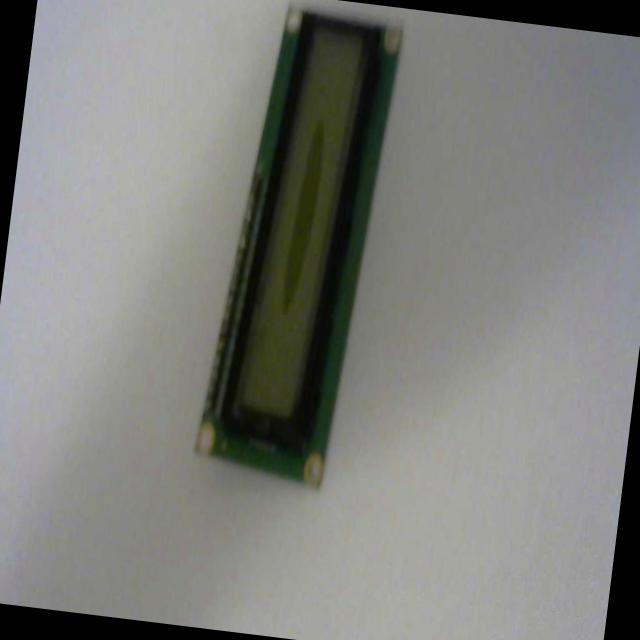lcd: (189, 0, 406, 493)
